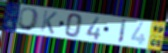0: (63, 13, 83, 39)
4: (85, 15, 103, 42), (130, 21, 147, 47)
I: (117, 19, 128, 45)
K: (39, 9, 58, 35)
O: (15, 7, 41, 32)
